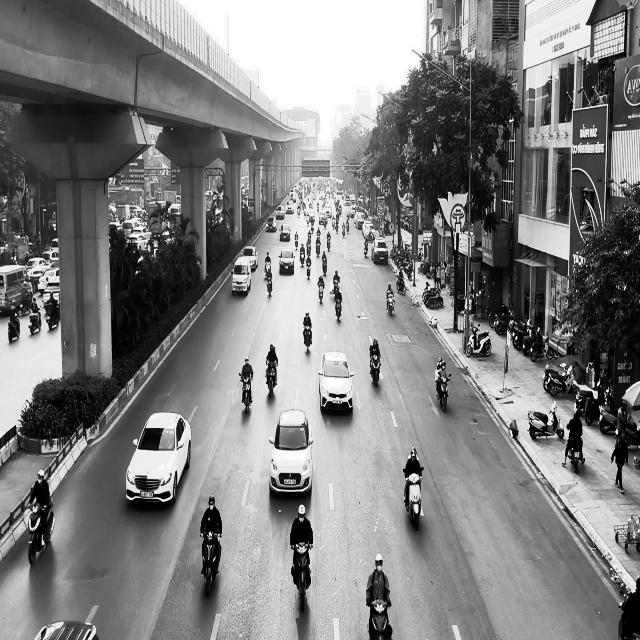car: (126, 411, 192, 505), (269, 408, 314, 496), (318, 350, 354, 411), (278, 248, 295, 274)
motorbike: (28, 498, 56, 565), (290, 540, 314, 611), (200, 530, 222, 596), (403, 468, 424, 530), (368, 598, 392, 639), (466, 322, 492, 357), (566, 432, 585, 472), (436, 371, 452, 412), (239, 372, 254, 412), (266, 360, 278, 397), (46, 302, 60, 330), (29, 306, 42, 334), (370, 354, 381, 387), (8, 315, 20, 343), (303, 324, 312, 352), (386, 294, 396, 316), (318, 277, 325, 303), (266, 274, 273, 297), (306, 255, 312, 279), (322, 256, 328, 276)
